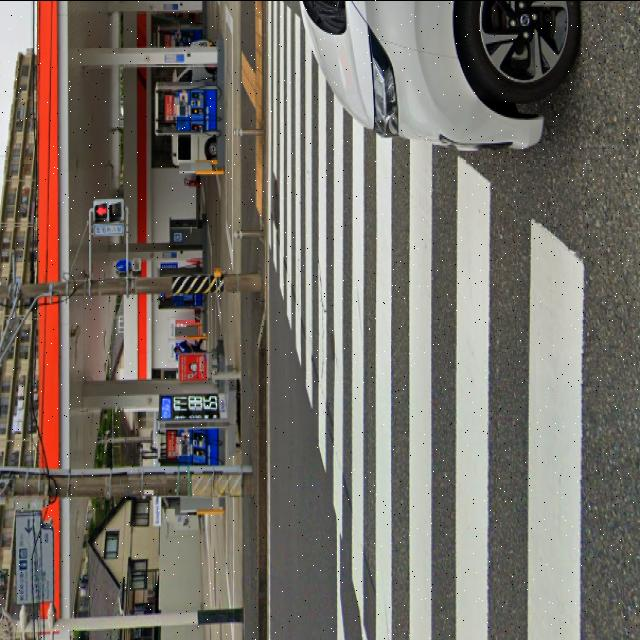traffic-light: (90, 198, 126, 232)
